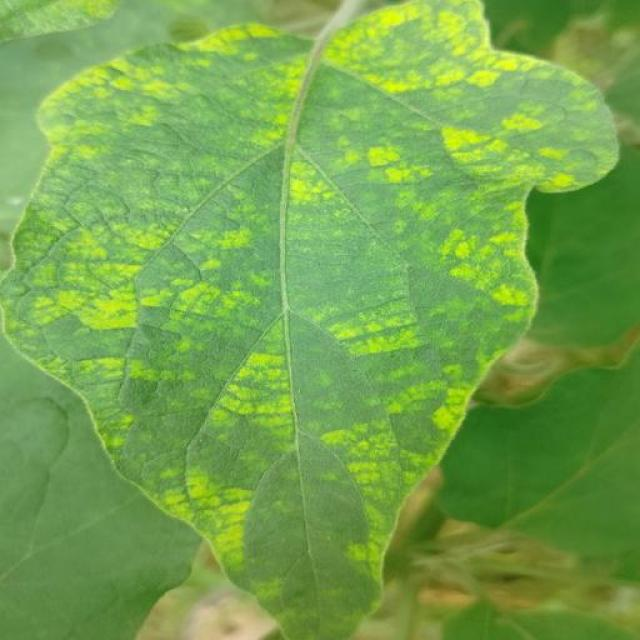leaf_spot: (314, 0, 547, 90), (426, 108, 605, 216), (124, 470, 286, 572), (414, 274, 526, 413), (324, 402, 406, 578), (192, 352, 315, 468), (330, 125, 447, 222), (41, 73, 140, 171), (431, 232, 546, 316), (311, 291, 427, 363), (36, 272, 146, 343), (533, 55, 622, 136), (143, 262, 250, 321), (84, 52, 179, 115), (111, 204, 189, 272), (230, 554, 301, 619), (409, 366, 468, 444), (389, 424, 442, 494), (23, 0, 130, 34), (82, 352, 170, 392), (0, 193, 65, 245), (91, 404, 140, 461), (224, 175, 272, 233), (274, 62, 305, 143), (192, 37, 275, 62), (206, 14, 274, 43), (279, 165, 324, 204), (68, 222, 102, 266), (218, 234, 252, 254)
